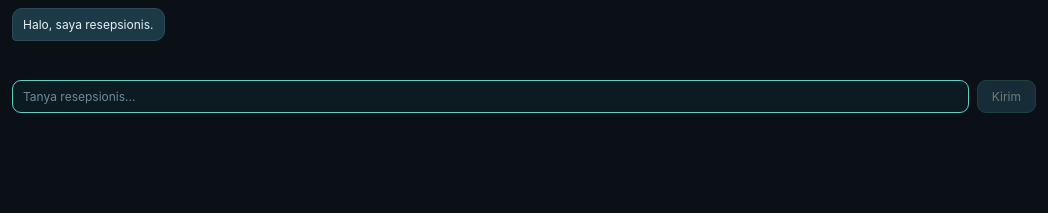
Scenario: CharacterChat › falls back to a local answer and explains why when AI is unavailable
Type "Bisa konsultasi di sini?" into the field labelled "Tanya resepsionis…".
click(490, 96); type("Bisa konsultasi di sini?")  # box 12,80 -> 969,113
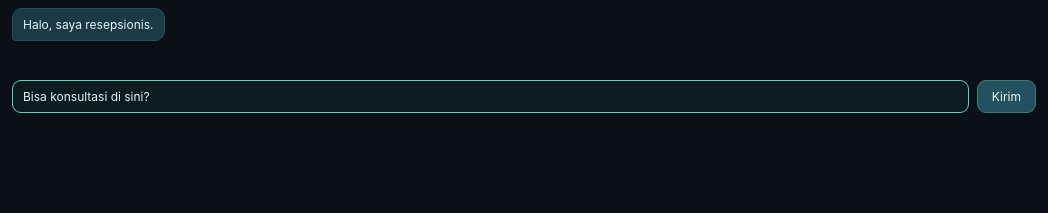
Click the button "Kirim".
click(1006, 96)  # box 977,80 -> 1036,113
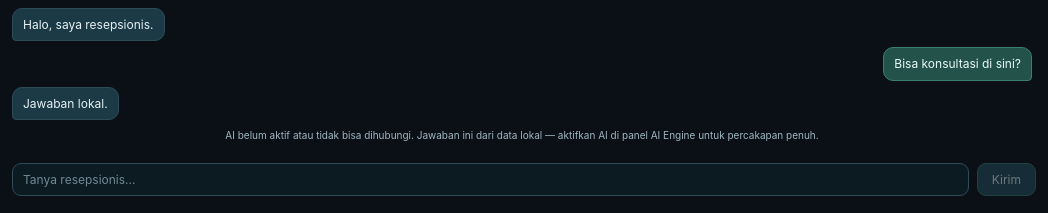
Now the text "Jawaban lokal." is shown, box 12,87 -> 119,120
Now the text "AI belum aktif atau tidak bisa dihubungi" is shown, box 225,129 -> 819,141
